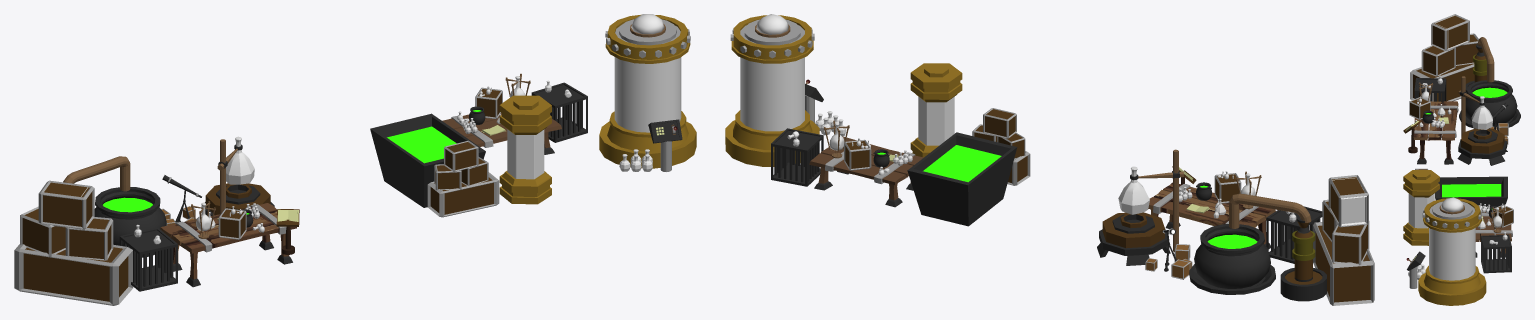
File: LabBObsB.fbx
3 renders of one model, left to right at view 1: azimuth 30°, elevation 25°; view 2: azimuth 150°, elevation 25°; view 3: azimuth 270°, elevation 25°, orthographic. The views are drawn at different scales.
Visible parts, largest first — view 1: Cube.1422, Cylinder.1587, Cube.1437, Cube.1281, Mesa_Rectangular_a.006, Cylinder.1588, Cube.1300, Pot.035, Cylinder.1589, Cube.1288, Cylinder.1584, Cylinder.1583 (+13 smaller); view 2: Cube.1422, Cube.1281, Cylinder.1587, Pot.035, Cylinder.1562, Mesa_Rectangular_a.006, Cube.1288, Mesa_Rectangular_a.033, Cylinder.1588, Cube.1437, Cylinder.1589, Cylinder.1552 (+15 smaller); view 3: Cube.1422, Cylinder.1587, Cylinder.1588, Cylinder.1562, Mesa_Rectangular_a.006, Pot.035, Cube.1288, Cube.1281, Cylinder.1589, Cylinder.1584, Cube.1282, Cylinder.1583 (+26 smaller).
Part boxes in pixels (box(x1,y1,x2,y2)): Cube.1422: box(14, 180, 133, 305); Cylinder.1587: box(614, 57, 681, 132); Cube.1437: box(427, 140, 499, 217); Cube.1281: box(370, 113, 485, 207); Mesa_Rectangular_a.006: box(160, 203, 296, 287); Cylinder.1588: box(599, 111, 696, 168); Cube.1300: box(119, 228, 177, 291); Pot.035: box(94, 187, 166, 246); Cylinder.1589: box(605, 14, 690, 63); Cube.1288: box(531, 82, 587, 142); Cylinder.1584: box(499, 95, 551, 134); Cylinder.1583: box(507, 129, 544, 179); Cube.1422: box(1313, 175, 1374, 305); Cube.1281: box(907, 132, 1017, 226); Cylinder.1587: box(740, 57, 804, 131); Pot.035: box(1194, 224, 1270, 288); Cylinder.1562: box(1097, 212, 1170, 265); Mesa_Rectangular_a.006: box(1148, 182, 1275, 248); Cube.1288: box(771, 128, 823, 186); Mesa_Rectangular_a.033: box(809, 136, 923, 207); Cylinder.1588: box(725, 110, 819, 166); Cube.1437: box(972, 108, 1030, 185); Cylinder.1589: box(731, 15, 813, 63); Cylinder.1552: box(1280, 216, 1326, 301); Cube.1422: box(1410, 14, 1478, 101); Cylinder.1587: box(1429, 228, 1475, 280); Cylinder.1588: box(1418, 265, 1486, 305); Cylinder.1562: box(1457, 128, 1507, 165); Mesa_Rectangular_a.006: box(1413, 101, 1458, 164); Pot.035: box(1465, 80, 1517, 125); Cube.1288: box(1481, 234, 1511, 273); Cube.1281: box(1435, 176, 1507, 229); Cylinder.1589: box(1423, 198, 1481, 232); Cylinder.1584: box(1403, 170, 1439, 197); Cube.1282: box(1442, 184, 1501, 197); Cylinder.1583: box(1408, 193, 1434, 228).
Bounding box in the file's own units: 14.71 × 2.89 × 3.24.
16 materials, 1 textured.
